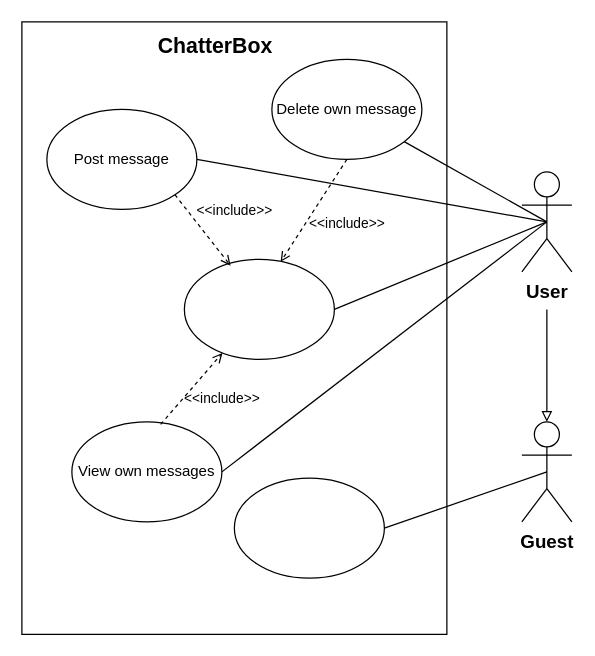
The diagram is 595 pixels wide and 656 high, and some of its shapes have lost their labels. Each missing label, with the centre of its shape:
Login: the point at 258,308
View all messages: the point at 308,527
